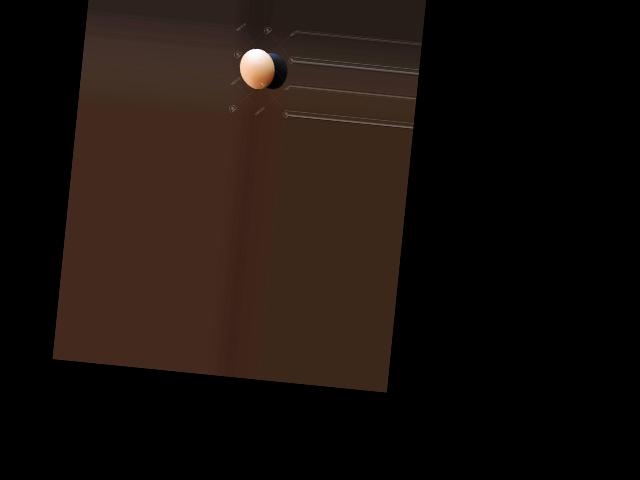egg: (237, 47, 277, 90)
